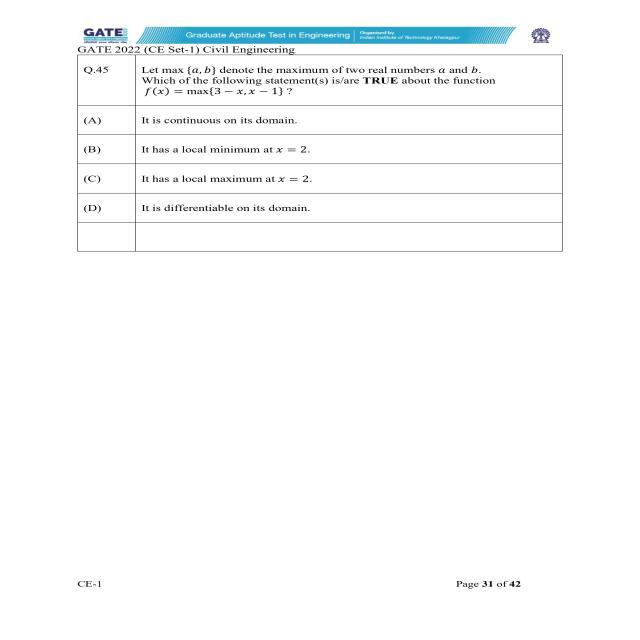Answer_Block: (45, 109, 603, 257)
Question_Answer_Block: (41, 52, 603, 314)
Question_Block: (45, 49, 605, 108)
Question_Paper_Area: (41, 52, 603, 314)
